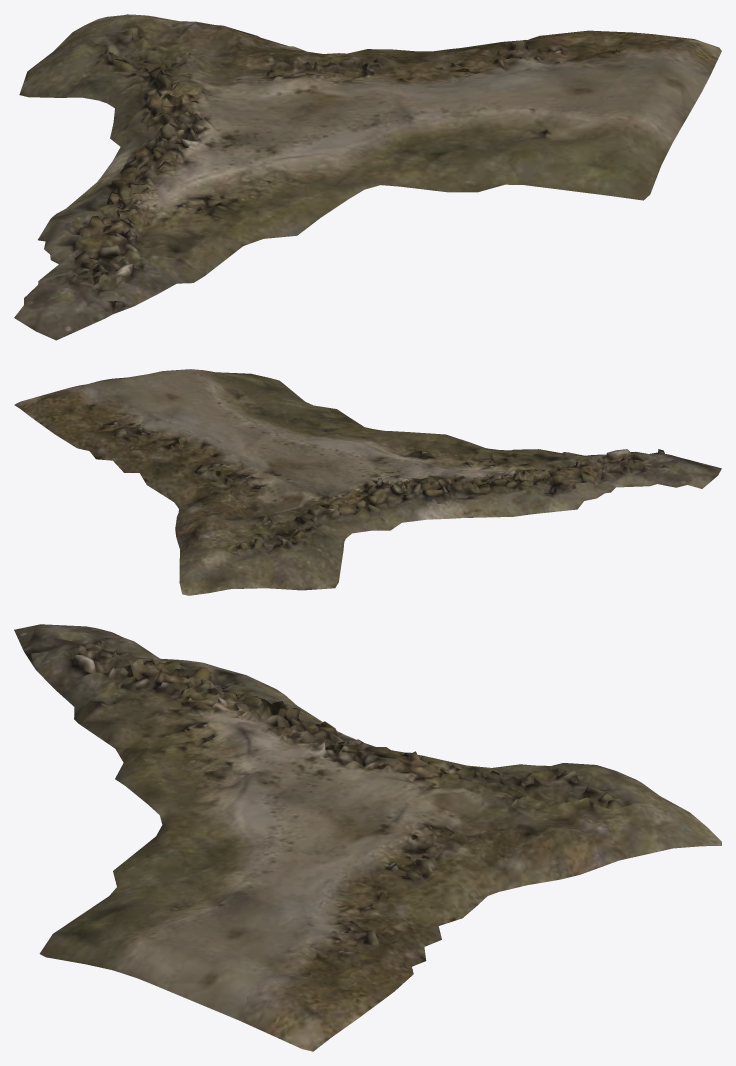
Rendered from rocks_lo.gltf.
3 views of the same model, one above another, from view 1: azimuth 30°, elevation 25°; view 2: azimuth 150°, elevation 25°; view 3: azimuth 270°, elevation 25° (orthographic). The views are drawn at different scales.
Visible parts, largest first — view 1: coast_rocks_01; view 2: coast_rocks_01; view 3: coast_rocks_01.
Boxes of the visible parts, left/top/right/bottom form: coast_rocks_01: left=14, top=14, right=721, bottom=340; coast_rocks_01: left=14, top=369, right=721, bottom=595; coast_rocks_01: left=14, top=624, right=721, bottom=1051.
Size of the model in its own units: 59.34 by 3.29 by 42.48.
1 material, 1 textured.
